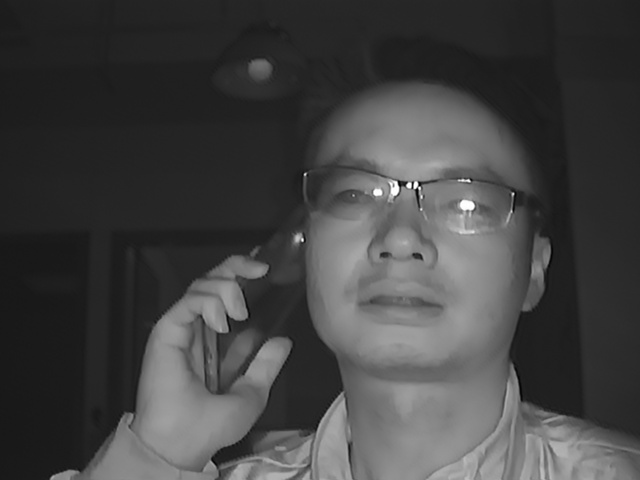hand: (137, 246, 293, 447)
